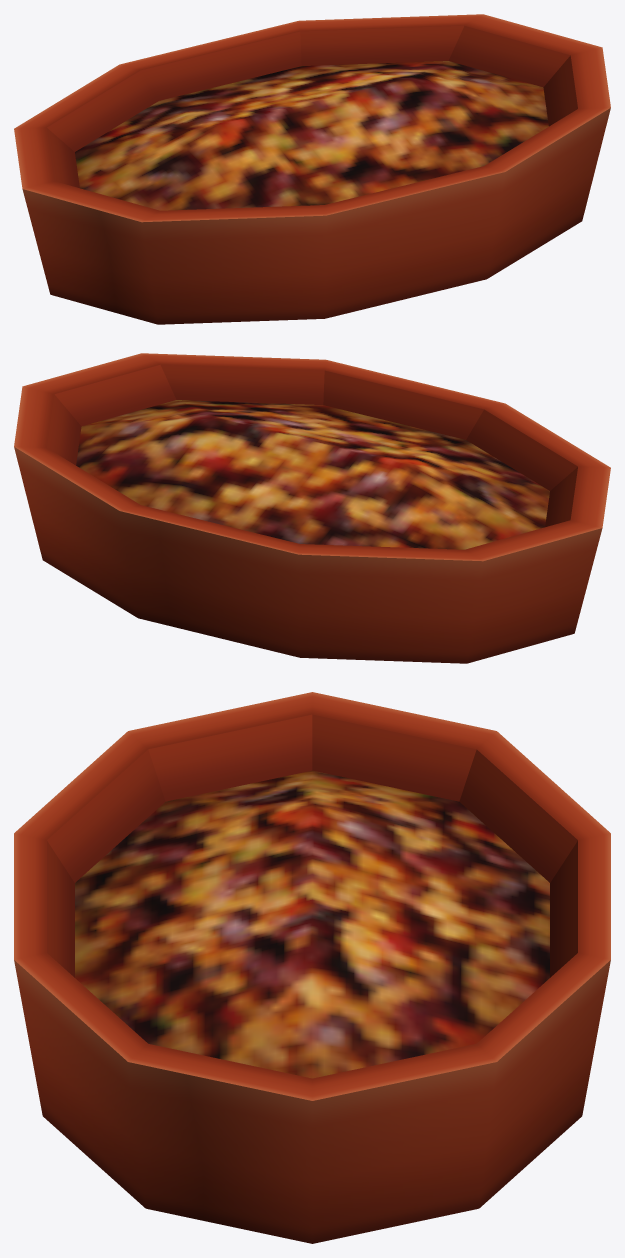
Rendered from Chili.fbx.
3 views of the same model, one above another, from view 1: azimuth 30°, elevation 25°; view 2: azimuth 150°, elevation 25°; view 3: azimuth 270°, elevation 25° (orthographic). The views are drawn at different scales.
Parts seen in each view (by area): view 1: Chili; view 2: Chili; view 3: Chili.
Part boxes in pixels (x1,y1,x2,y2): Chili: [14, 14, 610, 324]; Chili: [14, 353, 610, 663]; Chili: [14, 692, 610, 1243].
Size of the model in its own units: 252 by 53.1 by 155.
